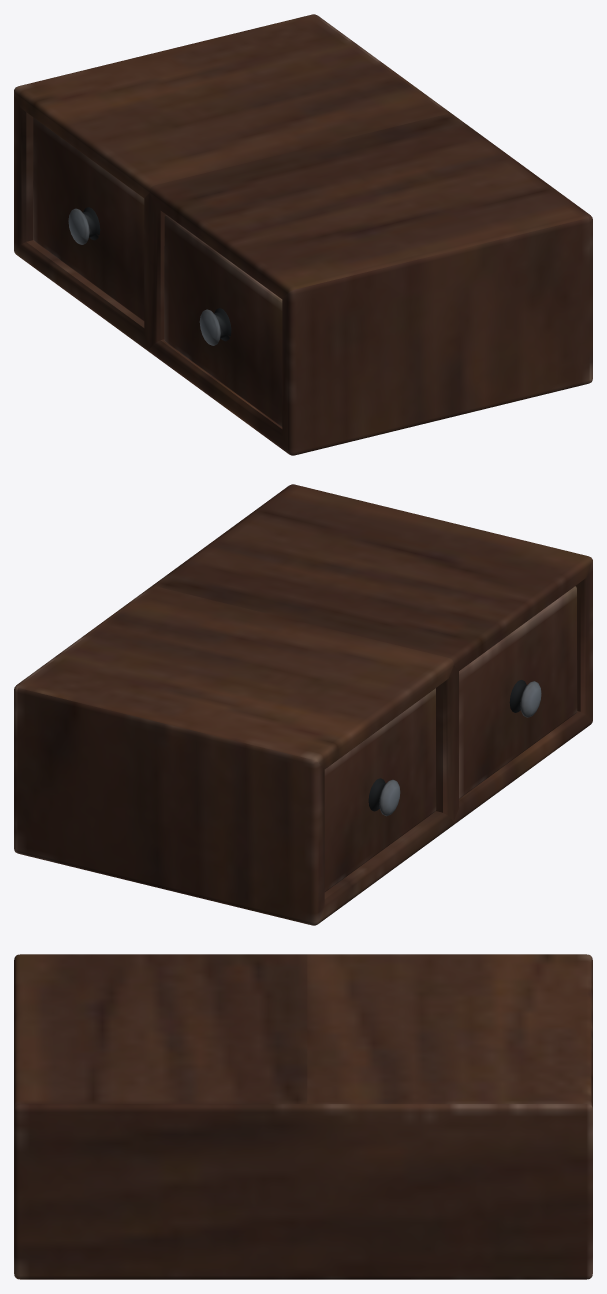
File: SM_TillFrame_Double.fbx
3 renders of one model, top to bottom at view 1: azimuth 30°, elevation 25°; view 2: azimuth 150°, elevation 25°; view 3: azimuth 270°, elevation 25°, orthographic. The views are drawn at different scales.
Visible parts, largest first — view 1: SM_TillFrame_Double_LOD0; view 2: SM_TillFrame_Double_LOD0; view 3: SM_TillFrame_Double_LOD0.
Boxes of the visible parts, left/top/right/bottom form: SM_TillFrame_Double_LOD0: left=14, top=14, right=592, bottom=455; SM_TillFrame_Double_LOD0: left=14, top=484, right=592, bottom=925; SM_TillFrame_Double_LOD0: left=14, top=954, right=592, bottom=1279.
Size of the model in its own units: 31.14 by 47.39 by 15.79.
1 material, 1 textured.
